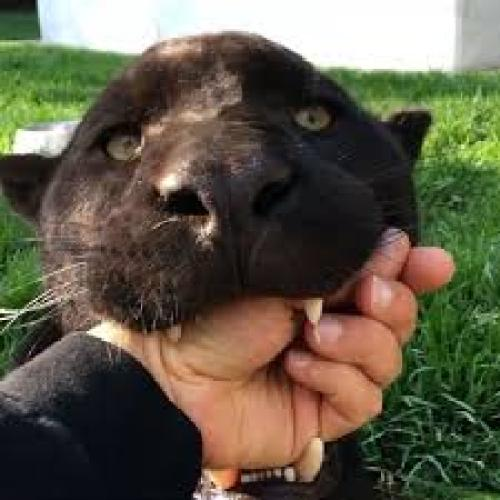panther-endangered: (0, 33, 425, 500)
